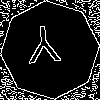Y: (25, 25, 63, 73)
